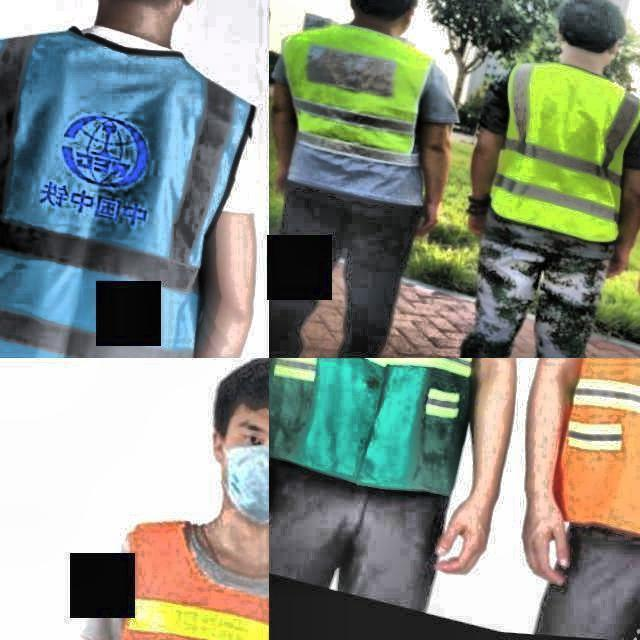safety_jacket: (0, 21, 260, 358), (269, 358, 507, 510), (482, 63, 640, 265), (286, 24, 434, 213), (80, 512, 269, 640), (551, 358, 640, 565)
